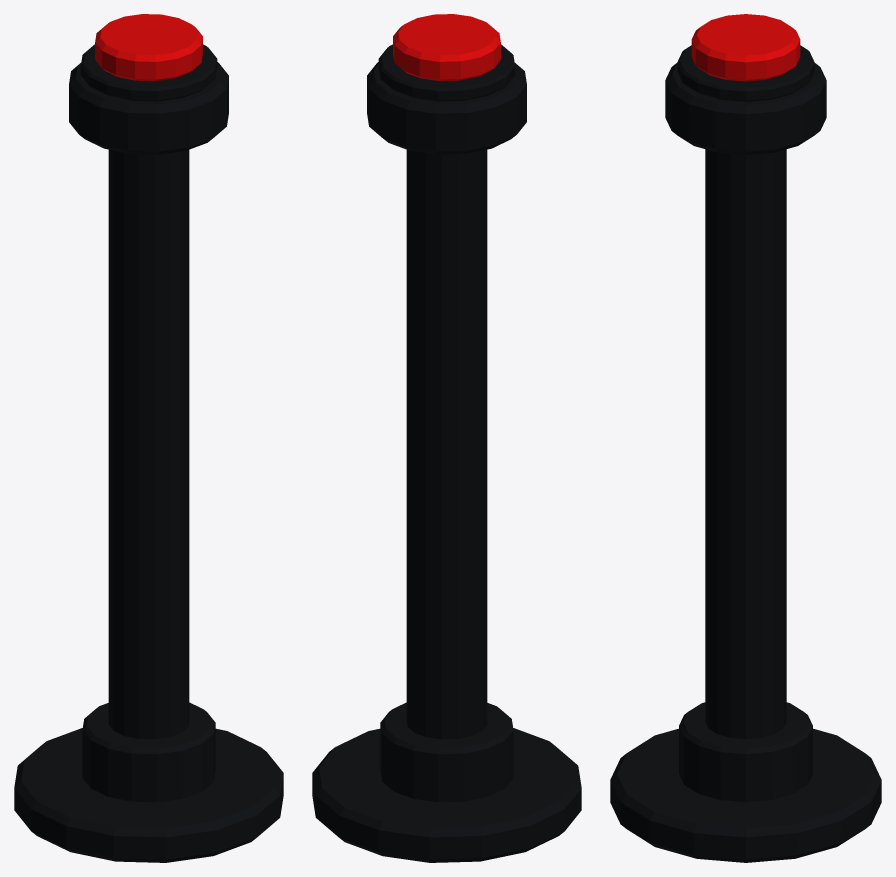
Rendered from button.obj.
3 renders of one model, left to right at view 1: azimuth 30°, elevation 25°; view 2: azimuth 150°, elevation 25°; view 3: azimuth 270°, elevation 25°, orthographic.
Bounding box in the file's own units: 0.32 × 1.01 × 0.32.
